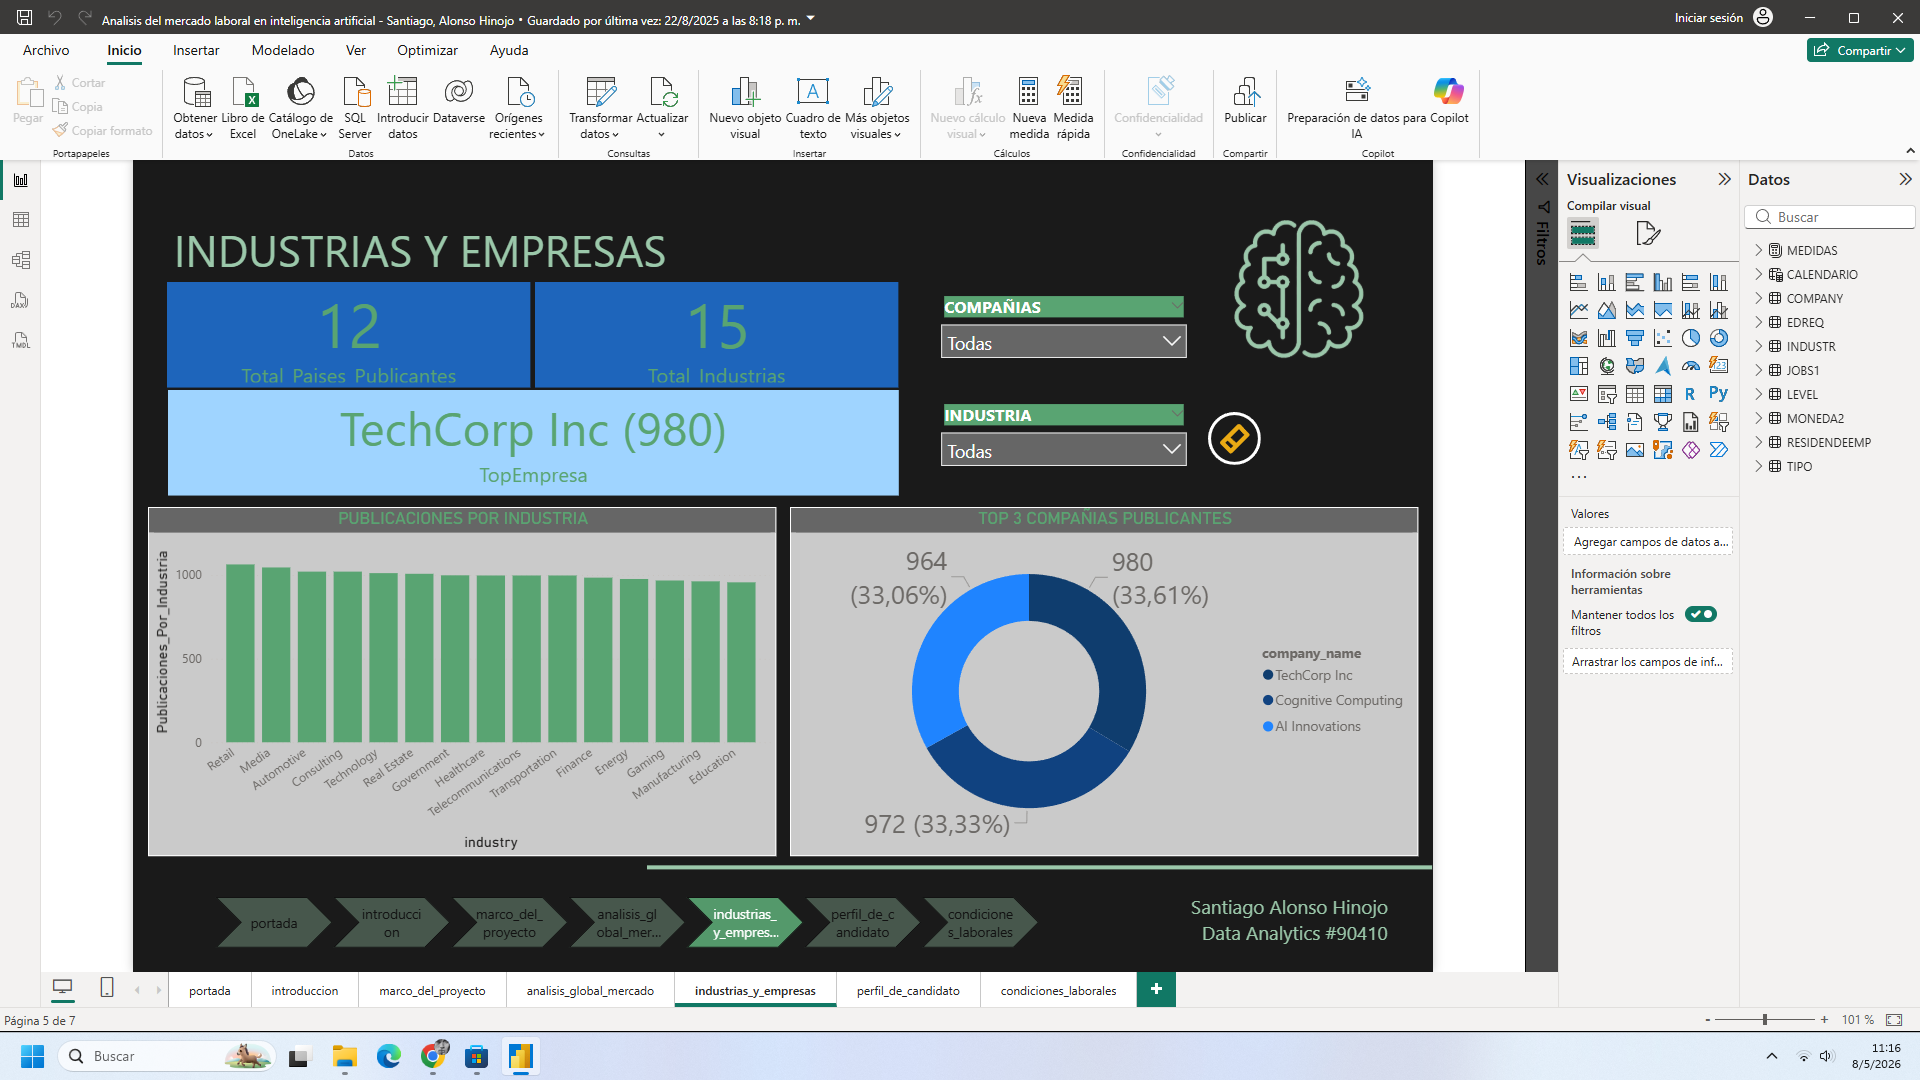

Layout of this report page (visuals, bound fields, positions):
{"tool":"powerbi","page":{"name":"industrias_y_empresas","canvas":[1280,800],"ordinal":4},"visuals":[{"type":"shape","box":[506.5,628.3,773.5,136.7],"z":0},{"type":"image","box":[1072.3,54,156.8,149.4],"z":1000},{"type":"textbox","box":[35.2,53.9,770.1,75],"z":2000},{"type":"columnChart","title":"PUBLICACIONES POR INDUSTRIA","fields":{"Y":["MEDIDAS.Publicaciones_Por_Industria"],"Category":["INDUSTR.industry"]},"box":[14.3,341.7,619,343.8],"z":3000},{"type":"slicer","fields":{"Values":["INDUSTR.industry"]},"box":[785.8,235.3,261.9,95.2],"z":4000},{"type":"slicer","fields":{"Values":["COMPANY.company_name"]},"box":[785.8,128.9,261.9,95.2],"z":5000},{"type":"card","fields":{"Values":["MEDIDAS.Empresa_Top"]},"box":[34.8,226.1,720.3,104.4],"z":6000},{"type":"donutChart","title":"TOP 3 COMPAÑIAS PUBLICANTES","fields":{"Category":["COMPANY.company_name"],"Y":["MEDIDAS.Publicaciones_Por_Industria"]},"box":[647.7,341.7,619,343.8],"z":7000},{"type":"card","fields":{"Values":["MEDIDAS.Total_Paises_Publicantes"]},"box":[33.8,119.7,358.1,104.4],"z":8000},{"type":"card","fields":{"Values":["MEDIDAS.Total_Industrias"]},"box":[396,119.7,358.1,104.4],"z":9000},{"type":"pageNavigator","box":[80.8,726.5,812.4,50.1],"z":10000},{"type":"textbox","box":[1003.7,718.1,276.3,81.9],"z":11000},{"type":"actionButton","box":[1059,248.6,52.2,52.2],"z":12000}]}

Visuals, with their boxes on the page's 1280x800 design canvas (x1, y1, x2, y2). These are canvas units, not pixel positions in the 1920x1080 screenshot, which may show the page scaled, cropped or inside an application window:
shape: 506 628 1280 765
image: 1072 54 1229 203
textbox: 35 54 805 129
"PUBLICACIONES POR INDUSTRIA" columnChart: 14 342 633 686
slicer - INDUSTR.industry: 786 235 1048 330
slicer - COMPANY.company_name: 786 129 1048 224
card - MEDIDAS.Empresa_Top: 35 226 755 330
"TOP 3 COMPAÑIAS PUBLICANTES" donutChart: 648 342 1267 686
card - MEDIDAS.Total_Paises_Publicantes: 34 120 392 224
card - MEDIDAS.Total_Industrias: 396 120 754 224
pageNavigator: 81 726 893 777
textbox: 1004 718 1280 800
actionButton: 1059 249 1111 301
